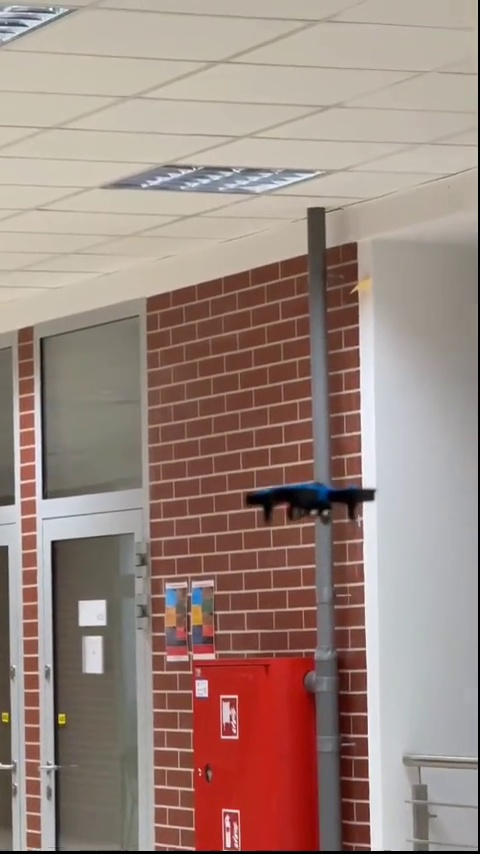drone: (238, 482, 378, 532)
